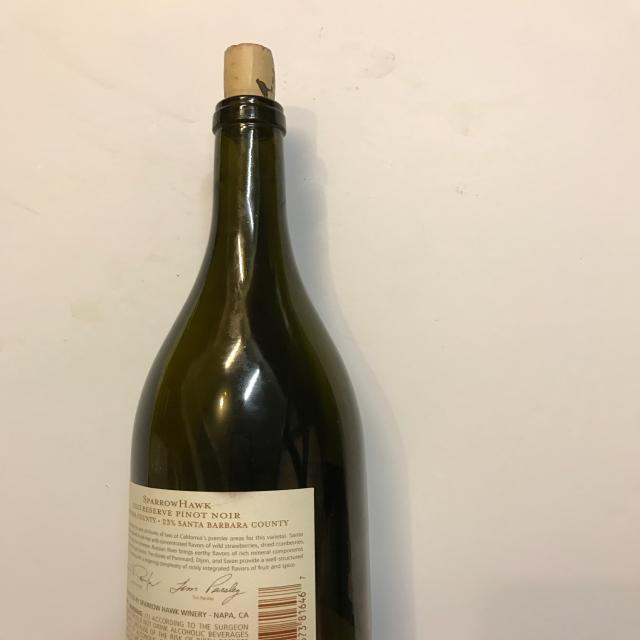glass: (126, 40, 368, 640)
